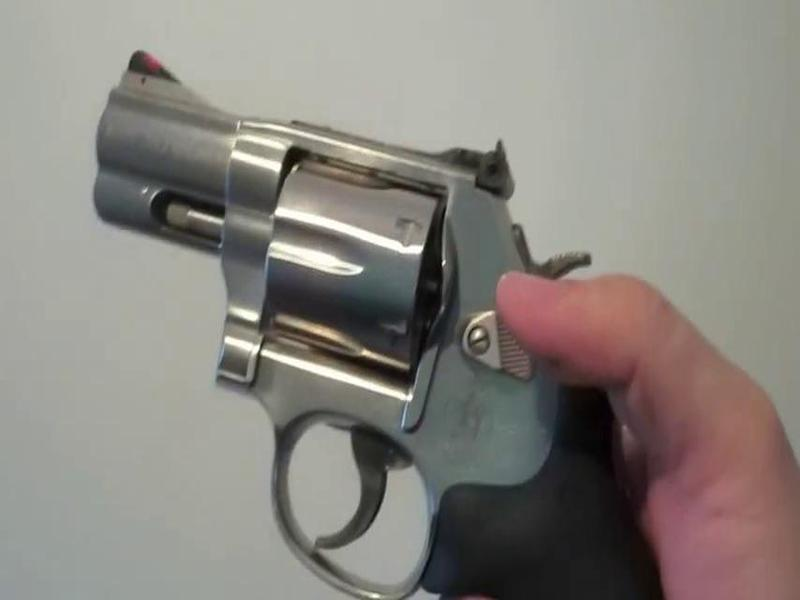Revolver: (74, 37, 639, 570)
